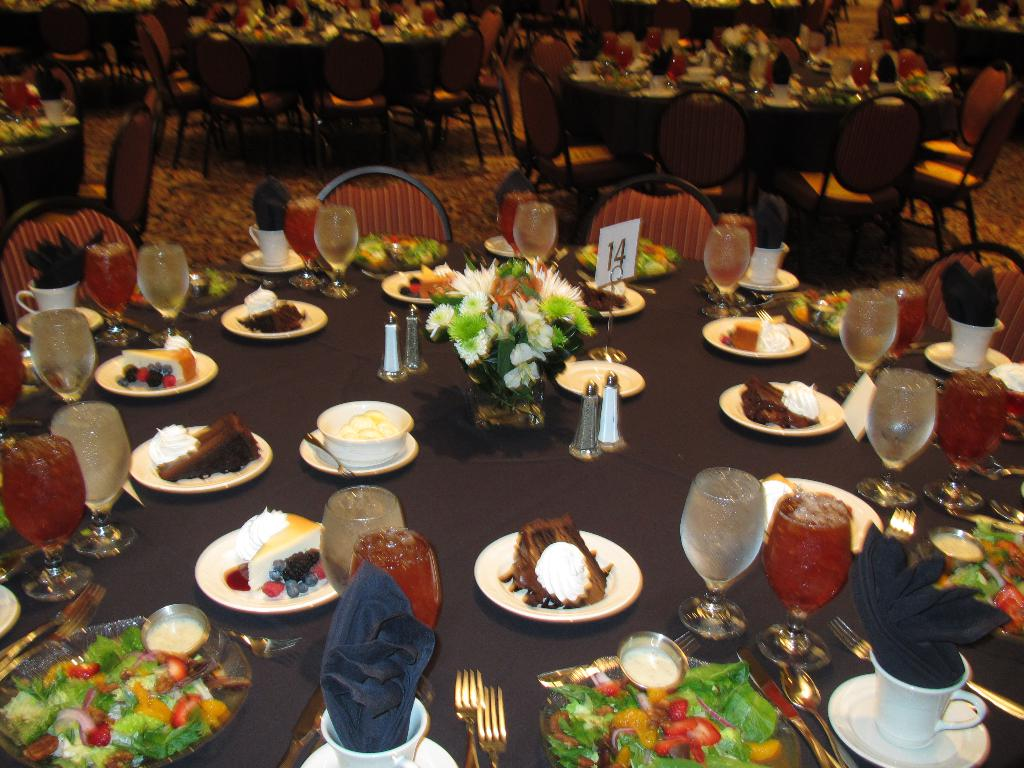person: (434, 0, 505, 100)
